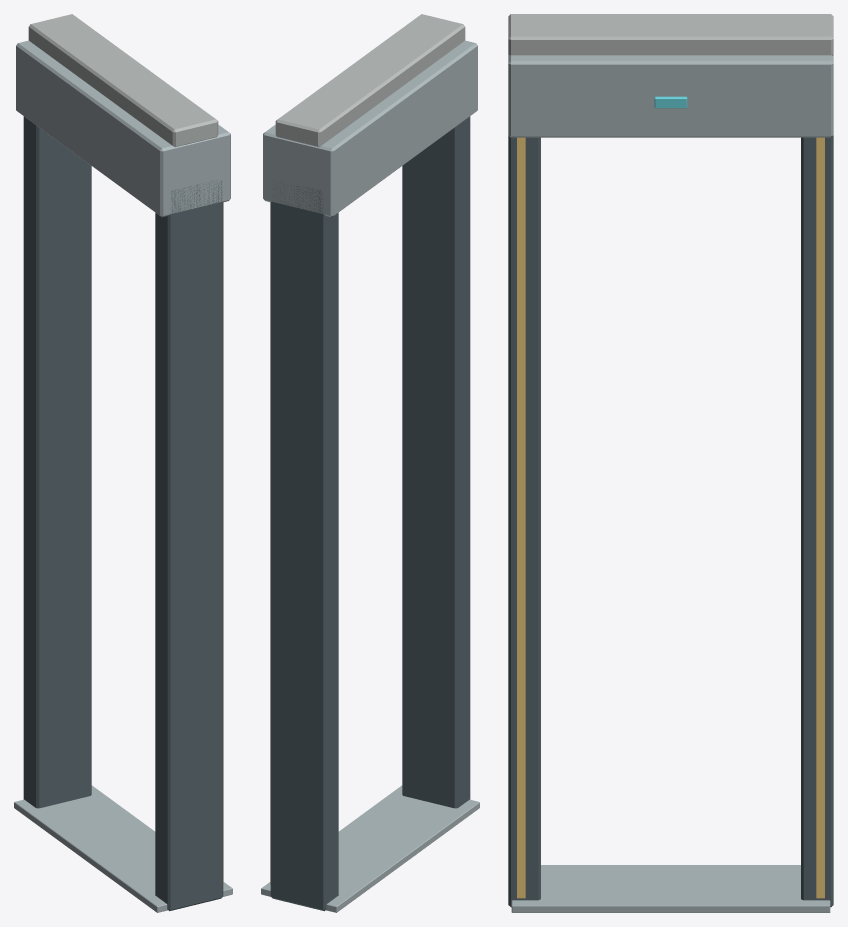
File: sliding-door.glb
3 renders of one model, left to right at view 1: azimuth 30°, elevation 25°; view 2: azimuth 150°, elevation 25°; view 3: azimuth 270°, elevation 25°, orthographic. The views are drawn at different scales.
Parts seen in each view (by area): view 1: Sliding door jamb.002, Door overhead drive.001, Door head concrete.001, Door caution edge.002; view 2: Sliding door jamb.002, Door overhead drive.001, Door head concrete.001, Door caution edge.002; view 3: Door overhead drive.001, Sliding door jamb.002, Door caution edge.002, Door head concrete.001.
Boxes of the visible parts, box(x1,y1,x2,y2) form: Sliding door jamb.002: box(23, 116, 223, 911); Door overhead drive.001: box(14, 40, 232, 912); Door head concrete.001: box(28, 14, 218, 146); Door caution edge.002: box(223, 202, 223, 884); Sliding door jamb.002: box(270, 116, 470, 911); Door overhead drive.001: box(261, 40, 479, 912); Door head concrete.001: box(275, 14, 465, 146); Door caution edge.002: box(270, 202, 270, 884); Door overhead drive.001: box(508, 55, 833, 912); Sliding door jamb.002: box(508, 135, 833, 907); Door caution edge.002: box(517, 137, 824, 898); Door head concrete.001: box(508, 14, 833, 55).
Bounding box in the file's own units: 0.312 × 2.94 × 1.
